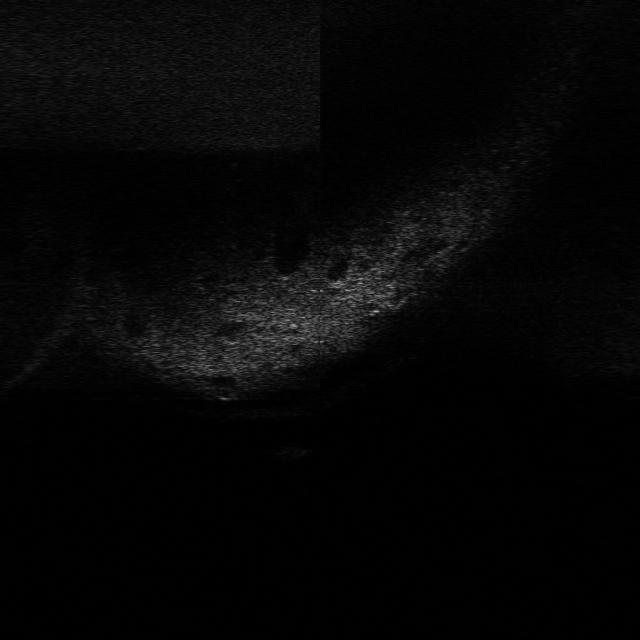cube: (263, 441, 313, 462)
